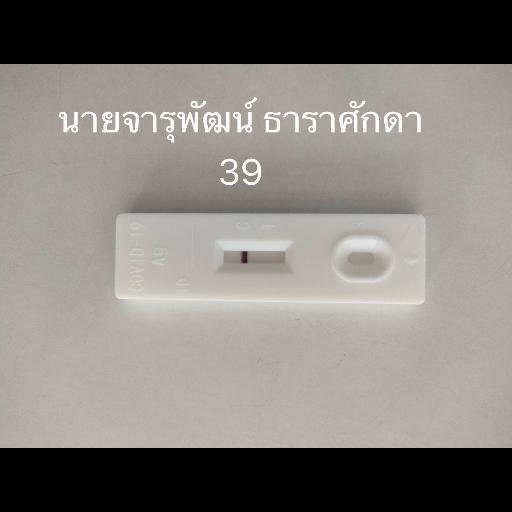Neg: (114, 208, 424, 302)
